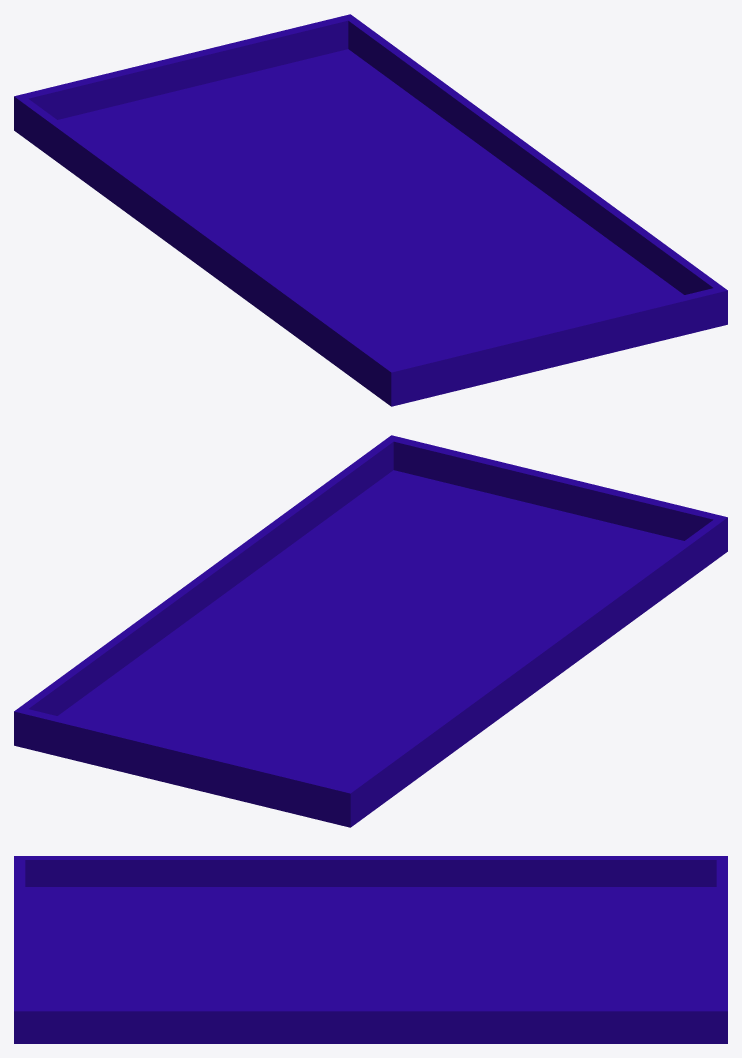
The model's file is CartCollider.fbx.
The picture shows the model from 3 angles, top to bottom: view 1: azimuth 30°, elevation 25°; view 2: azimuth 150°, elevation 25°; view 3: azimuth 270°, elevation 25°; orthographic projection. The views are drawn at different scales.
Parts seen in each view (by area): view 1: CardCollider; view 2: CardCollider; view 3: CardCollider.
Boxes of the visible parts, x1,y1,x2,y2 form: CardCollider: [14, 14, 727, 406]; CardCollider: [14, 435, 727, 827]; CardCollider: [14, 856, 727, 1043].
Bounding box in the file's own units: 0.2473 × 0.024 × 0.4804.
